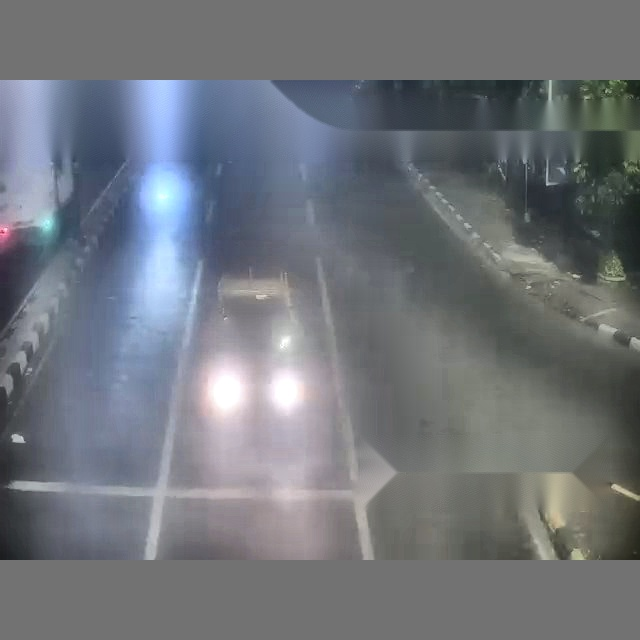Bis: (0, 80, 78, 249)
